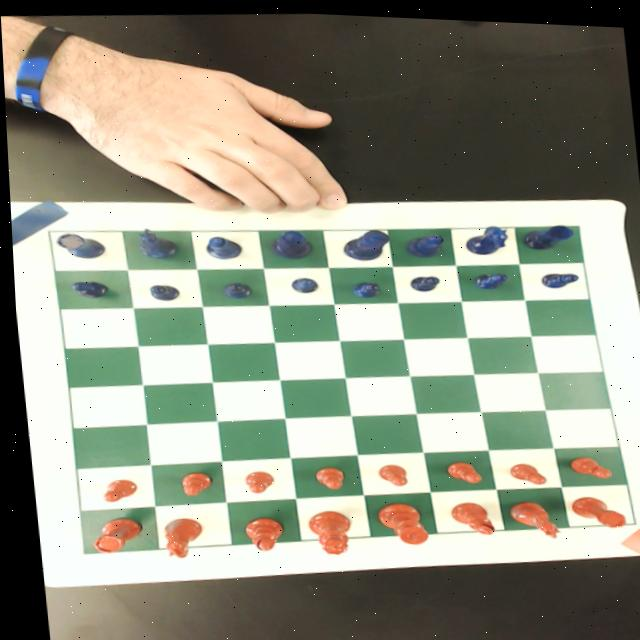B: (401, 228, 443, 255), (201, 233, 241, 259)
K: (337, 225, 389, 259)
N: (461, 220, 509, 252), (134, 225, 179, 259)
P: (66, 279, 106, 300), (536, 266, 577, 285), (467, 267, 507, 286), (404, 269, 439, 290), (144, 282, 178, 301), (285, 273, 317, 293), (218, 279, 250, 299), (348, 278, 378, 296)
Q: (268, 227, 310, 258)
R: (51, 227, 103, 261), (520, 217, 572, 248)
b: (443, 496, 491, 533), (235, 513, 279, 550)
k: (370, 497, 423, 544)
n: (502, 494, 556, 536), (155, 515, 201, 558)
p: (563, 451, 608, 476), (94, 477, 134, 503), (440, 456, 479, 482), (502, 457, 542, 482), (174, 469, 209, 496), (307, 463, 340, 489), (371, 459, 404, 484), (239, 468, 271, 493)
q: (300, 507, 348, 553)
r: (83, 515, 139, 556), (564, 489, 621, 525)
